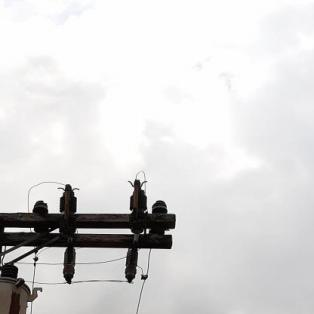Poste: (0, 209, 17, 314)
